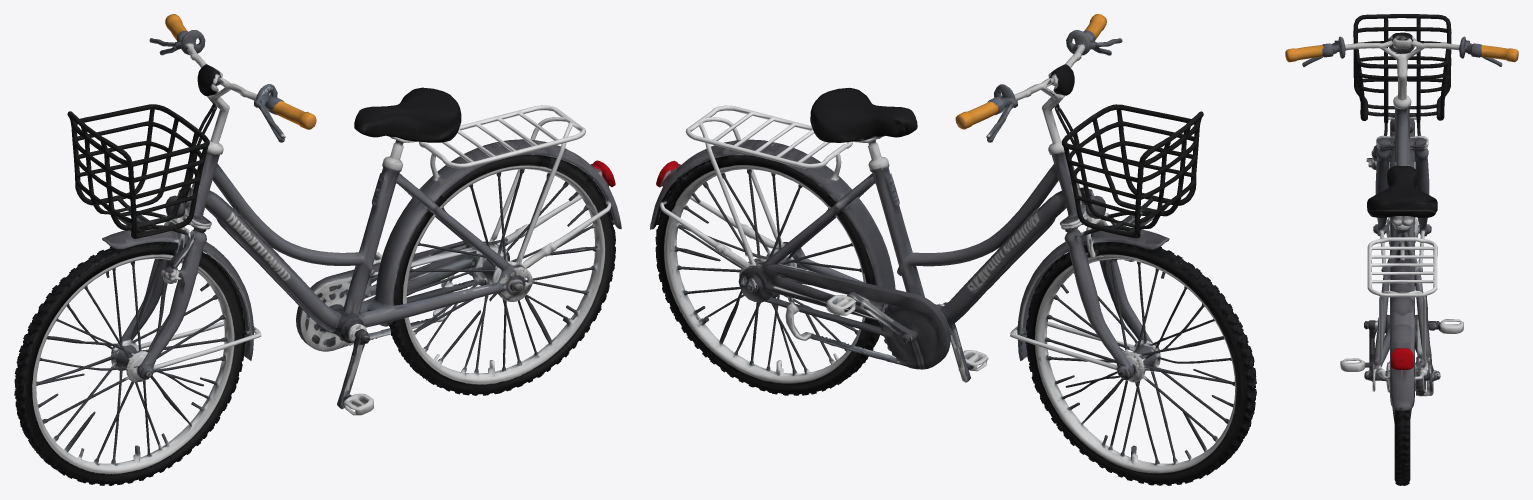
Rendered from city_utility_bicycle_3d_model.fbx.
3 renders of one model, left to right at view 1: azimuth 30°, elevation 25°; view 2: azimuth 150°, elevation 25°; view 3: azimuth 270°, elevation 25°, orthographic. The views are drawn at different scales.
Visible parts, largest first — view 1: tripo_part_4, tripo_part_0, tripo_part_1, tripo_part_3, tripo_part_5, tripo_part_12; view 2: tripo_part_4, tripo_part_0, tripo_part_1, tripo_part_3, tripo_part_5, tripo_part_12, tripo_part_15, tripo_part_14; view 3: tripo_part_4, tripo_part_5, tripo_part_1, tripo_part_12, tripo_part_3, tripo_part_9, tripo_part_10.
Part boxes in pixels (box(x1,y1,x2,y2)): tripo_part_4: box(67, 87, 621, 379); tripo_part_0: box(14, 242, 245, 485); tripo_part_1: box(389, 154, 615, 395); tripo_part_3: box(296, 241, 488, 351); tripo_part_5: box(149, 14, 316, 218); tripo_part_12: box(337, 321, 373, 415); tripo_part_4: box(650, 87, 1203, 379); tripo_part_0: box(1025, 242, 1256, 485); tripo_part_1: box(655, 155, 881, 395); tripo_part_3: box(738, 262, 950, 369); tripo_part_5: box(955, 14, 1122, 218); tripo_part_12: box(937, 302, 988, 382); tripo_part_15: box(847, 292, 917, 343); tripo_part_14: box(659, 201, 757, 268); tripo_part_4: box(1353, 14, 1451, 410); tripo_part_5: box(1285, 32, 1518, 100); tripo_part_1: box(1386, 361, 1415, 485); tripo_part_12: box(1340, 317, 1386, 371); tripo_part_3: box(1417, 296, 1440, 396); tripo_part_9: box(1437, 319, 1463, 333); tripo_part_10: box(1415, 355, 1425, 395).
Size of the model in its own units: 0.9998 by 0.6337 by 0.4067.
13 materials, 13 textured.
